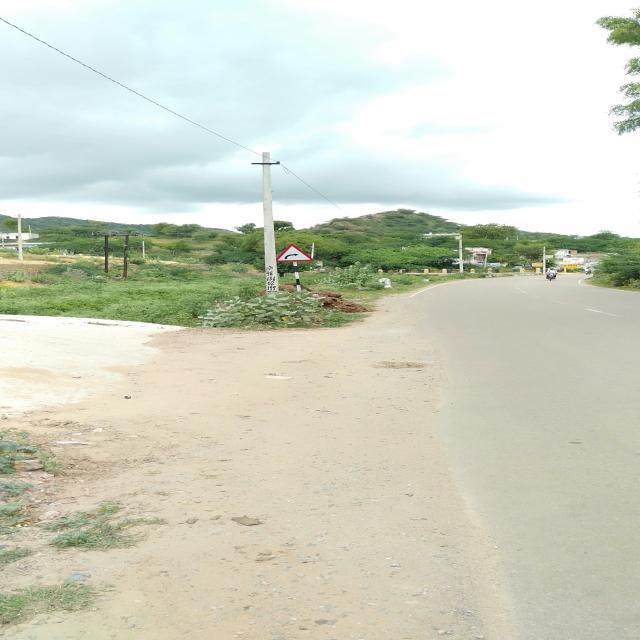right hand curve: (275, 243, 316, 262)
